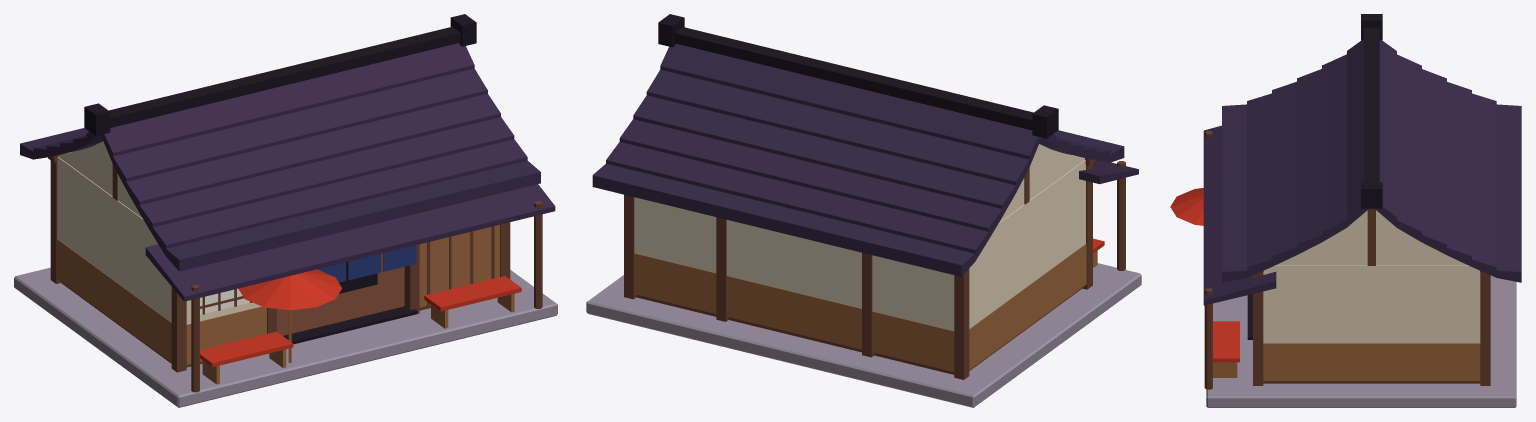
File: tea_house.glb
The picture shows the model from 3 angles, left to right: view 1: azimuth 30°, elevation 25°; view 2: azimuth 150°, elevation 25°; view 3: azimuth 270°, elevation 25°; orthographic projection. The views are drawn at different scales.
Visible parts, largest first — view 1: tea_house; view 2: tea_house; view 3: tea_house.
Part boxes in pixels (left/top/right/bottom): tea_house: left=14, top=14, right=557, bottom=407; tea_house: left=586, top=14, right=1141, bottom=407; tea_house: left=1170, top=14, right=1521, bottom=407.
Size of the model in its own units: 8 by 4.69 by 6.8.
